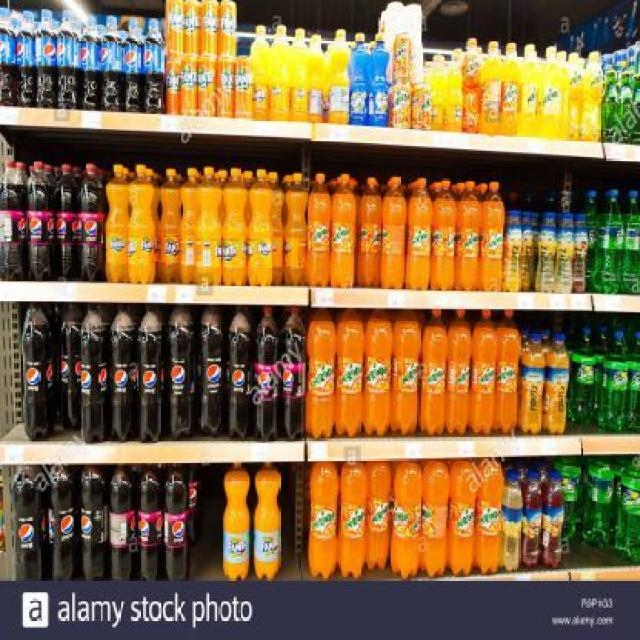Drinks: (21, 302, 54, 442), (165, 304, 197, 441), (196, 304, 227, 438), (43, 464, 79, 579), (78, 302, 107, 443), (107, 304, 136, 442), (54, 302, 85, 430), (136, 303, 164, 443), (227, 305, 255, 440), (10, 464, 42, 579), (254, 304, 280, 442), (280, 305, 306, 440), (78, 464, 108, 579), (594, 190, 626, 296), (109, 463, 138, 579), (26, 161, 54, 281), (253, 462, 281, 581), (77, 163, 105, 282), (222, 463, 250, 580), (597, 330, 629, 432), (0, 158, 26, 282), (128, 164, 154, 284), (581, 454, 614, 548), (247, 168, 273, 287), (164, 462, 190, 580), (138, 463, 164, 580), (222, 167, 247, 285), (568, 326, 597, 425), (198, 166, 222, 285), (54, 163, 78, 282), (614, 455, 640, 562), (105, 164, 128, 282), (284, 173, 308, 285), (157, 168, 180, 282), (56, 10, 79, 110), (554, 455, 581, 540), (100, 15, 123, 111), (270, 24, 292, 121), (329, 28, 351, 124), (143, 18, 165, 114), (249, 25, 271, 120), (122, 19, 144, 113), (79, 17, 101, 111), (36, 8, 56, 108), (348, 31, 369, 126), (16, 9, 36, 108), (369, 32, 389, 126), (182, 167, 198, 284), (291, 27, 309, 122), (622, 191, 638, 297), (0, 7, 17, 105), (309, 34, 325, 123), (198, 55, 217, 117), (180, 55, 198, 116), (218, 0, 237, 57), (235, 56, 252, 119), (217, 56, 234, 118), (165, 0, 183, 58), (200, 0, 218, 57), (184, 0, 201, 55), (165, 59, 180, 115)
